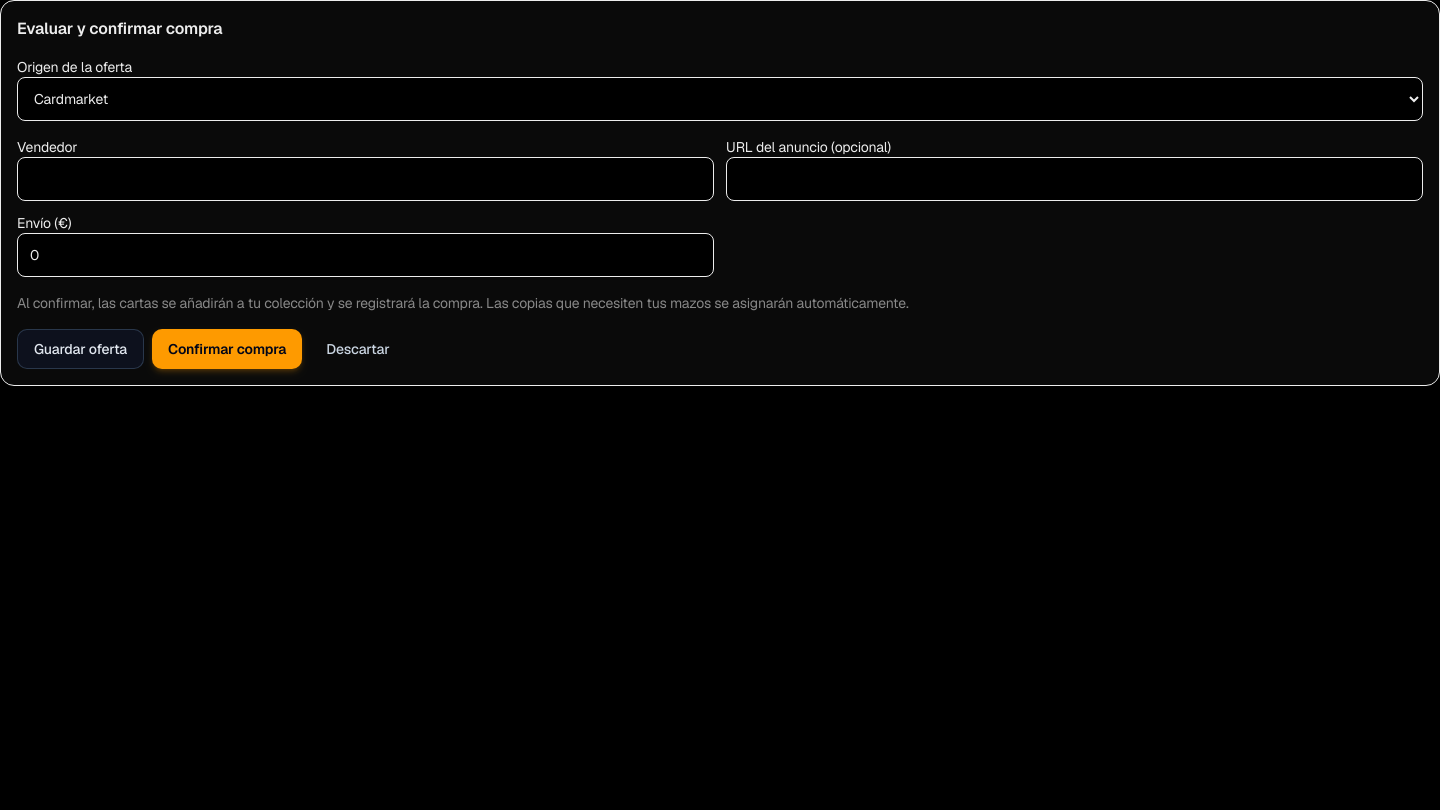
purchase navigation and confirmation › opens a simple confirmation for an unchanged offer without a redundant save
Click the button "Confirmar compra": [227, 349] box 152,329 -> 302,369
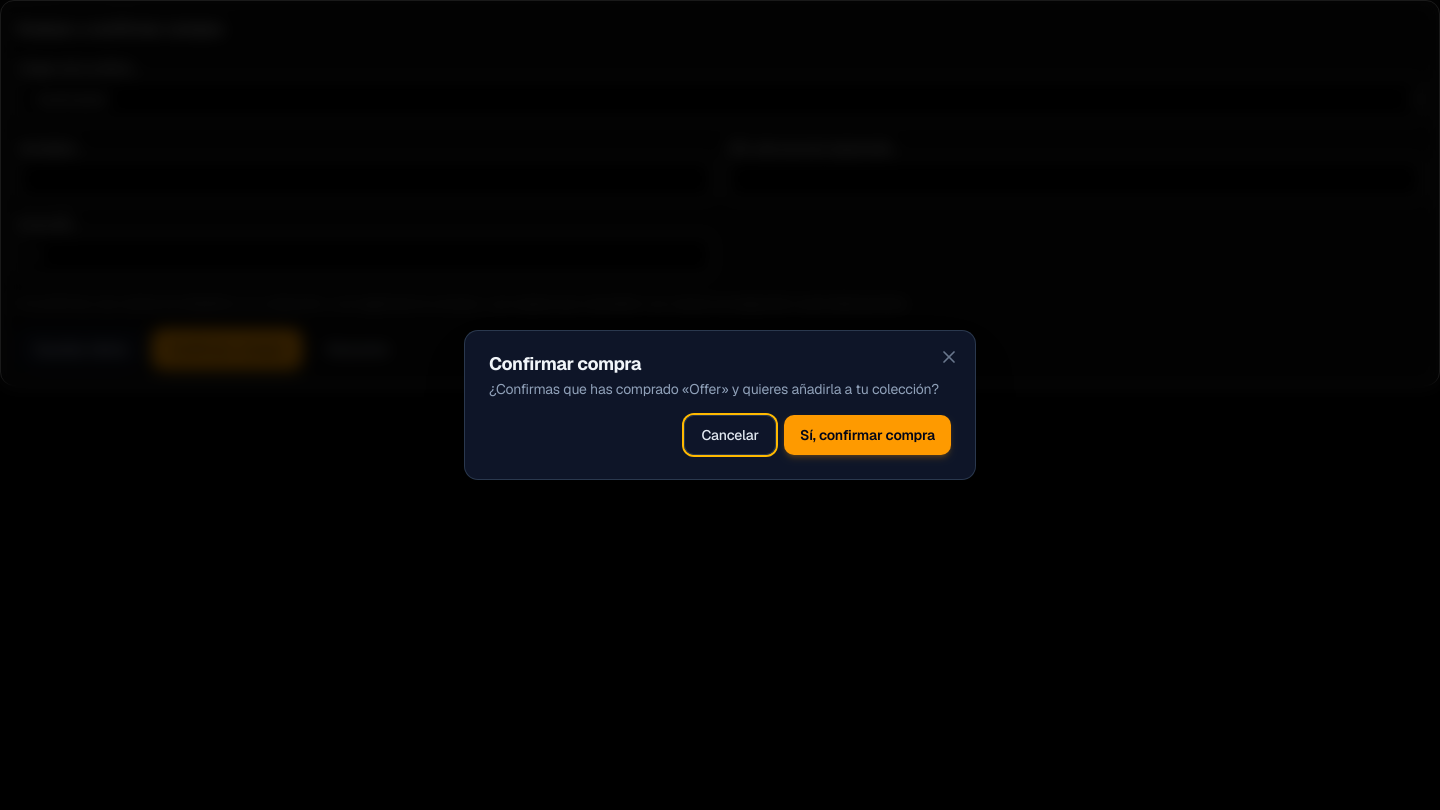
Expected: the button "Sí, confirmar compra" is enabled, 784,415 -> 951,455
